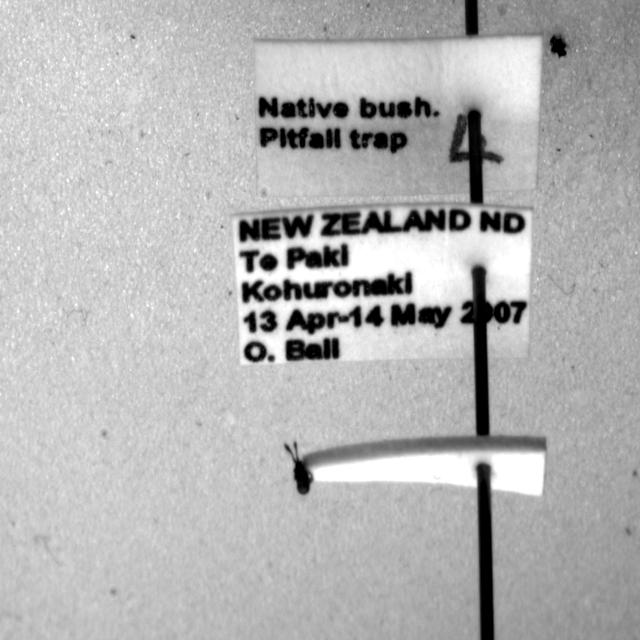typed_label: (232, 204, 532, 364), (255, 36, 542, 197)
